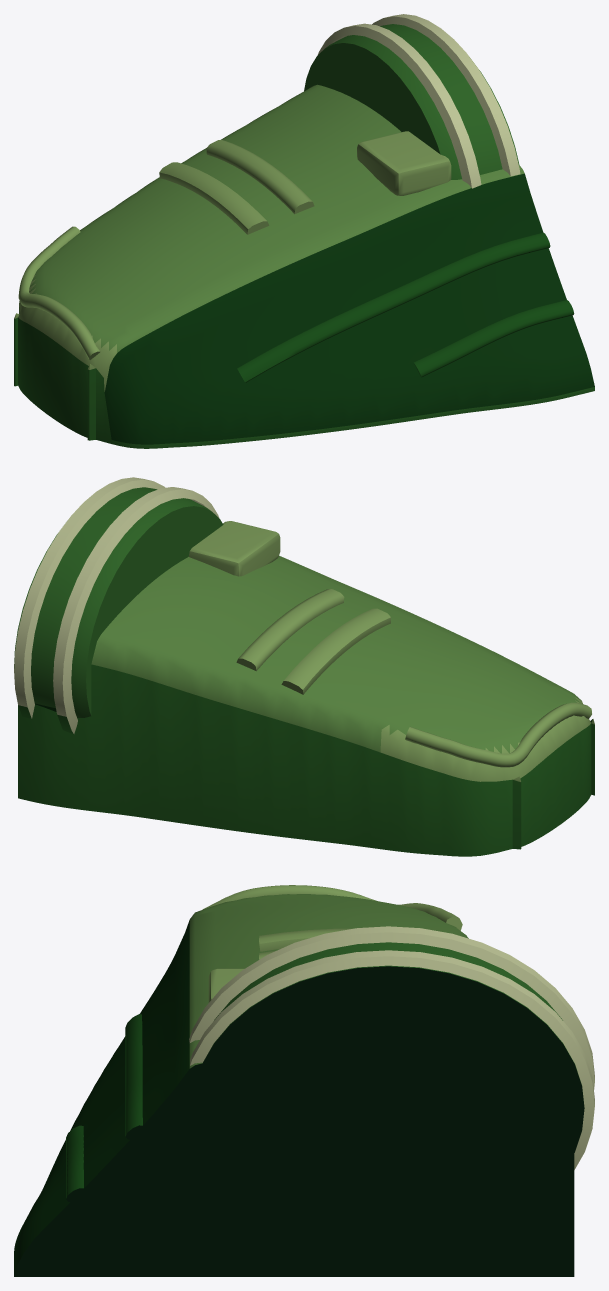
The model's file is green_skiff_l_nose.glb.
3 views of the same model, one above another, from view 1: azimuth 30°, elevation 25°; view 2: azimuth 150°, elevation 25°; view 3: azimuth 270°, elevation 25° (orthographic). The views are drawn at different scales.
Visible parts, largest first — view 1: bow_m.001, collar_m.001, slat0_m.001, hatch_m.001, collar_ring2_m.001, collar_ring1_m.001, slat1_m.001, rib1_m.001, rib0_m.001, nose_rim_m.001; view 2: bow_m.001, collar_m.001, collar_ring2_m.001, collar_ring1_m.001, hatch_m.001, nose_rim_m.001, rib1_m.001, rib0_m.001; view 3: bow_m.001, collar_m.001, collar_ring1_m.001, collar_ring2_m.001, slat0_m.001, nose_rim_m.001, slat1_m.001, rib1_m.001, hatch_m.001.
Part boxes in pixels (left/top/right/bottom): bow_m.001: left=14, top=84, right=594, bottom=448; collar_m.001: left=304, top=24, right=519, bottom=179; slat0_m.001: left=237, top=232, right=550, bottom=382; hatch_m.001: left=357, top=131, right=451, bottom=195; collar_ring2_m.001: left=318, top=23, right=481, bottom=188; collar_ring1_m.001: left=372, top=14, right=520, bottom=176; slat1_m.001: left=414, top=300, right=574, bottom=377; rib1_m.001: left=159, top=162, right=269, bottom=234; rib0_m.001: left=206, top=140, right=314, bottom=214; nose_rim_m.001: left=18, top=226, right=100, bottom=360; bow_m.001: left=18, top=555, right=594, bottom=856; collar_m.001: left=14, top=487, right=223, bottom=717; collar_ring2_m.001: left=53, top=487, right=219, bottom=734; collar_ring1_m.001: left=14, top=477, right=165, bottom=718; hatch_m.001: left=188, top=521, right=280, bottom=576; nose_rim_m.001: left=405, top=702, right=591, bottom=767; rib1_m.001: left=281, top=608, right=390, bottom=694; rib0_m.001: left=236, top=589, right=344, bottom=671; bow_m.001: left=14, top=894, right=574, bottom=1276; collar_m.001: left=192, top=942, right=584, bottom=1250; collar_ring1_m.001: left=190, top=950, right=594, bottom=1169; collar_ring2_m.001: left=189, top=926, right=594, bottom=1089; slat0_m.001: left=125, top=1014, right=145, bottom=1139; nose_rim_m.001: left=203, top=885, right=462, bottom=930; slat1_m.001: left=66, top=1125, right=86, bottom=1202; rib1_m.001: left=259, top=928, right=352, bottom=951; hatch_m.001: left=208, top=968, right=244, bottom=1002.
Bounding box in the file's own units: 21.65 × 12.09 × 20.01.
